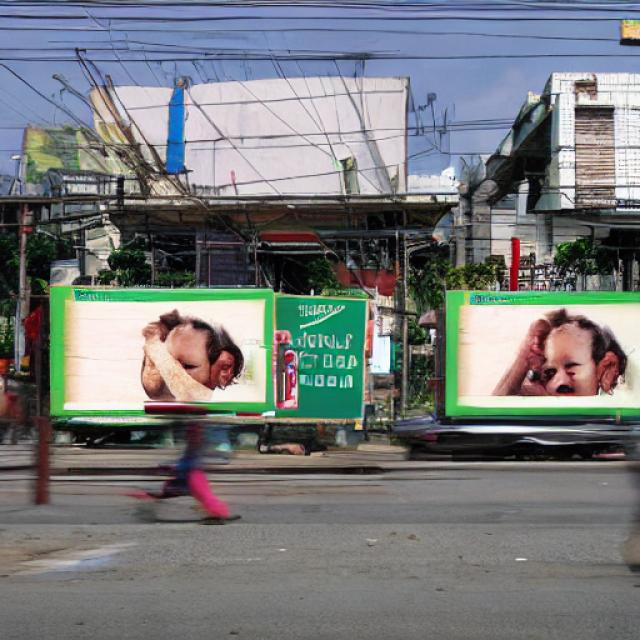Billboard: (45, 281, 368, 431), (443, 287, 640, 414)
